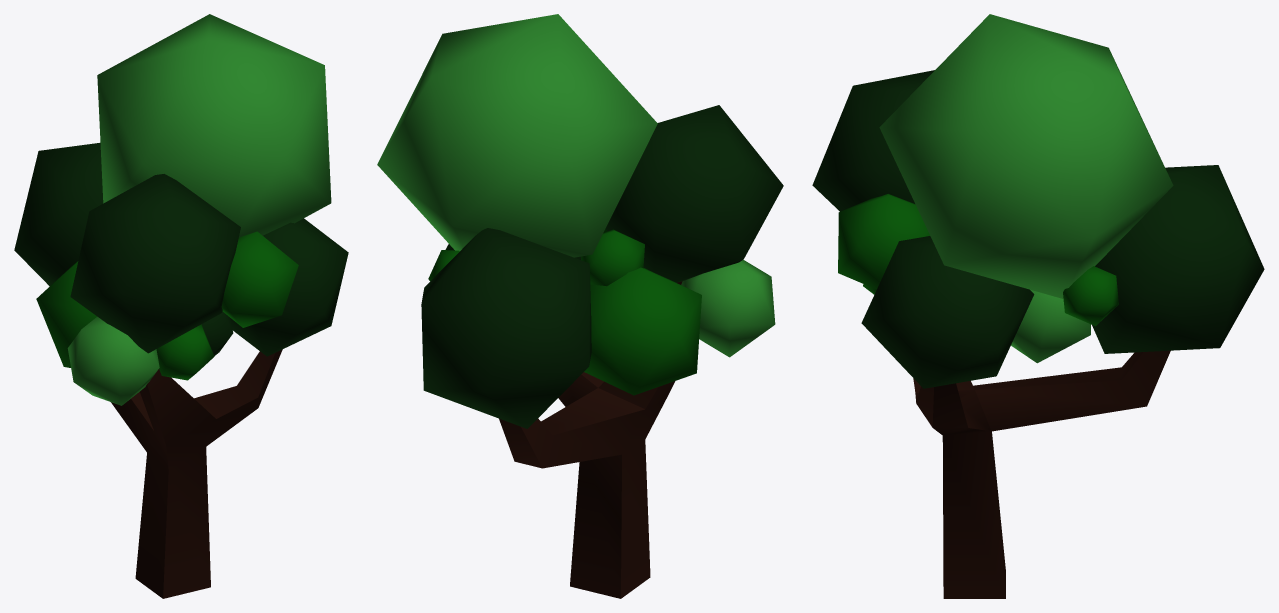
File: Yard_AnyWhere_Tree_NoSwing_2.FBX
3 views of the same model, side by side, from view 1: azimuth 30°, elevation 25°; view 2: azimuth 150°, elevation 25°; view 3: azimuth 270°, elevation 25° (orthographic). The views are drawn at different scales.
Parts seen in each view (by area): view 1: Yard_AnyWhere_Tree_NoSwing_2_leafBall08, Yard_AnyWhere_Tree_NoSwing_2_leafBall07, Yard_AnyWhere_Tree_NoSwing_2, Yard_AnyWhere_Tree_NoSwing_2_leafBall10, Yard_AnyWhere_Tree_NoSwing_2_leafBall04, Yard_AnyWhere_Tree_NoSwing_2_leafBall11, Yard_AnyWhere_Tree_NoSwing_2_leafBall01, Yard_AnyWhere_Tree_NoSwing_2_leafBall09, Yard_AnyWhere_Tree_NoSwing_2_leafBall06, Yard_AnyWhere_Tree_NoSwing_2_leafBall05; view 2: Yard_AnyWhere_Tree_NoSwing_2_leafBall08, Yard_AnyWhere_Tree_NoSwing_2_leafBall10, Yard_AnyWhere_Tree_NoSwing_2_leafBall07, Yard_AnyWhere_Tree_NoSwing_2, Yard_AnyWhere_Tree_NoSwing_2_leafBall09, Yard_AnyWhere_Tree_NoSwing_2_leafBall11, Yard_AnyWhere_Tree_NoSwing_2_leafBall00; view 3: Yard_AnyWhere_Tree_NoSwing_2_leafBall08, Yard_AnyWhere_Tree_NoSwing_2_leafBall10, Yard_AnyWhere_Tree_NoSwing_2, Yard_AnyWhere_Tree_NoSwing_2_leafBall04, Yard_AnyWhere_Tree_NoSwing_2_leafBall07, Yard_AnyWhere_Tree_NoSwing_2_leafBall01, Yard_AnyWhere_Tree_NoSwing_2_leafBall03, Yard_AnyWhere_Tree_NoSwing_2_leafBall02.
Boxes of the visible parts, x1,y1,x2,y2 form: Yard_AnyWhere_Tree_NoSwing_2_leafBall08: [97, 14, 331, 237]; Yard_AnyWhere_Tree_NoSwing_2_leafBall07: [70, 174, 240, 353]; Yard_AnyWhere_Tree_NoSwing_2: [111, 349, 282, 598]; Yard_AnyWhere_Tree_NoSwing_2_leafBall10: [14, 143, 103, 286]; Yard_AnyWhere_Tree_NoSwing_2_leafBall04: [230, 218, 348, 356]; Yard_AnyWhere_Tree_NoSwing_2_leafBall11: [67, 316, 159, 405]; Yard_AnyWhere_Tree_NoSwing_2_leafBall01: [221, 231, 298, 327]; Yard_AnyWhere_Tree_NoSwing_2_leafBall09: [36, 261, 96, 367]; Yard_AnyWhere_Tree_NoSwing_2_leafBall06: [156, 324, 214, 380]; Yard_AnyWhere_Tree_NoSwing_2_leafBall05: [201, 311, 233, 355]; Yard_AnyWhere_Tree_NoSwing_2_leafBall08: [377, 14, 657, 257]; Yard_AnyWhere_Tree_NoSwing_2_leafBall10: [421, 228, 591, 428]; Yard_AnyWhere_Tree_NoSwing_2_leafBall07: [605, 105, 783, 282]; Yard_AnyWhere_Tree_NoSwing_2: [499, 281, 682, 598]; Yard_AnyWhere_Tree_NoSwing_2_leafBall09: [584, 267, 701, 395]; Yard_AnyWhere_Tree_NoSwing_2_leafBall11: [681, 259, 775, 357]; Yard_AnyWhere_Tree_NoSwing_2_leafBall00: [581, 229, 644, 286]; Yard_AnyWhere_Tree_NoSwing_2_leafBall08: [879, 14, 1173, 298]; Yard_AnyWhere_Tree_NoSwing_2_leafBall10: [1092, 165, 1264, 353]; Yard_AnyWhere_Tree_NoSwing_2: [913, 350, 1170, 598]; Yard_AnyWhere_Tree_NoSwing_2_leafBall04: [861, 236, 1034, 388]; Yard_AnyWhere_Tree_NoSwing_2_leafBall07: [812, 70, 934, 211]; Yard_AnyWhere_Tree_NoSwing_2_leafBall01: [838, 194, 929, 289]; Yard_AnyWhere_Tree_NoSwing_2_leafBall03: [1011, 289, 1090, 363]; Yard_AnyWhere_Tree_NoSwing_2_leafBall02: [1063, 266, 1118, 326].
Bounding box in the file's own units: 793 × 1365 × 940.
